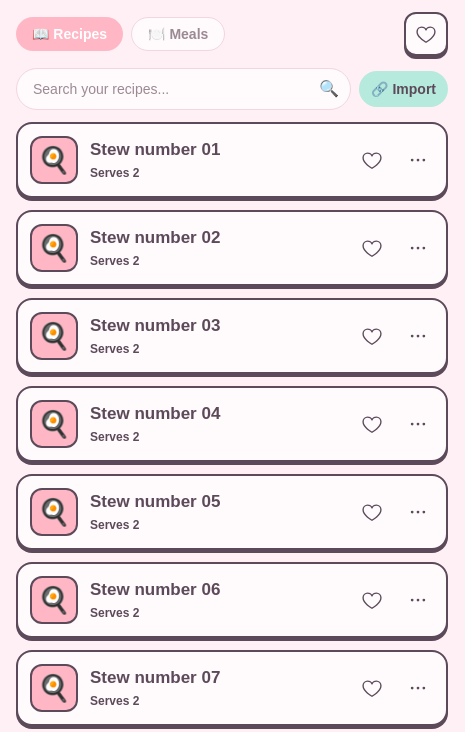
Test case: library loads every recipe (issue #869) › search finds recipe 55
In the field with placeholder "Search your recipes...": (184, 89) [16,68,351,110], type "number 55"
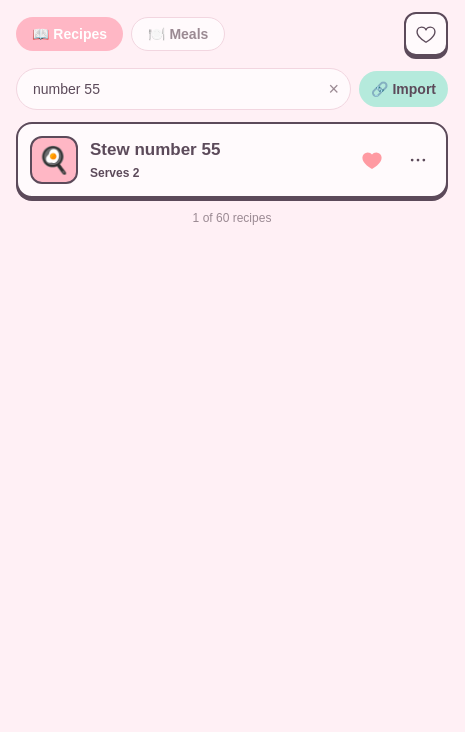
Check: the element with test id "recipe-card-saved" shows "Stew number 55", box [18,124,350,196]
Check: the number of elements with test id "recipe-card-saved" is 1, box [16,122,448,198]
